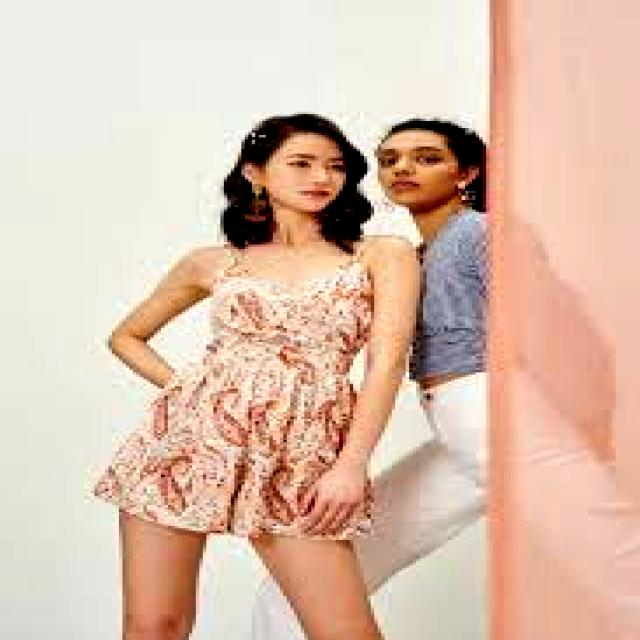dress: (95, 250, 374, 539)
